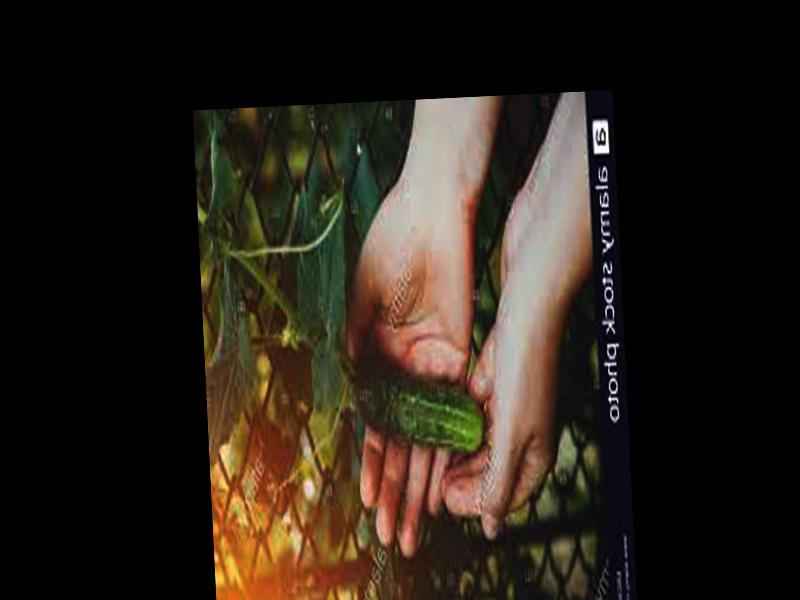Cucumber: (354, 353, 487, 460)
